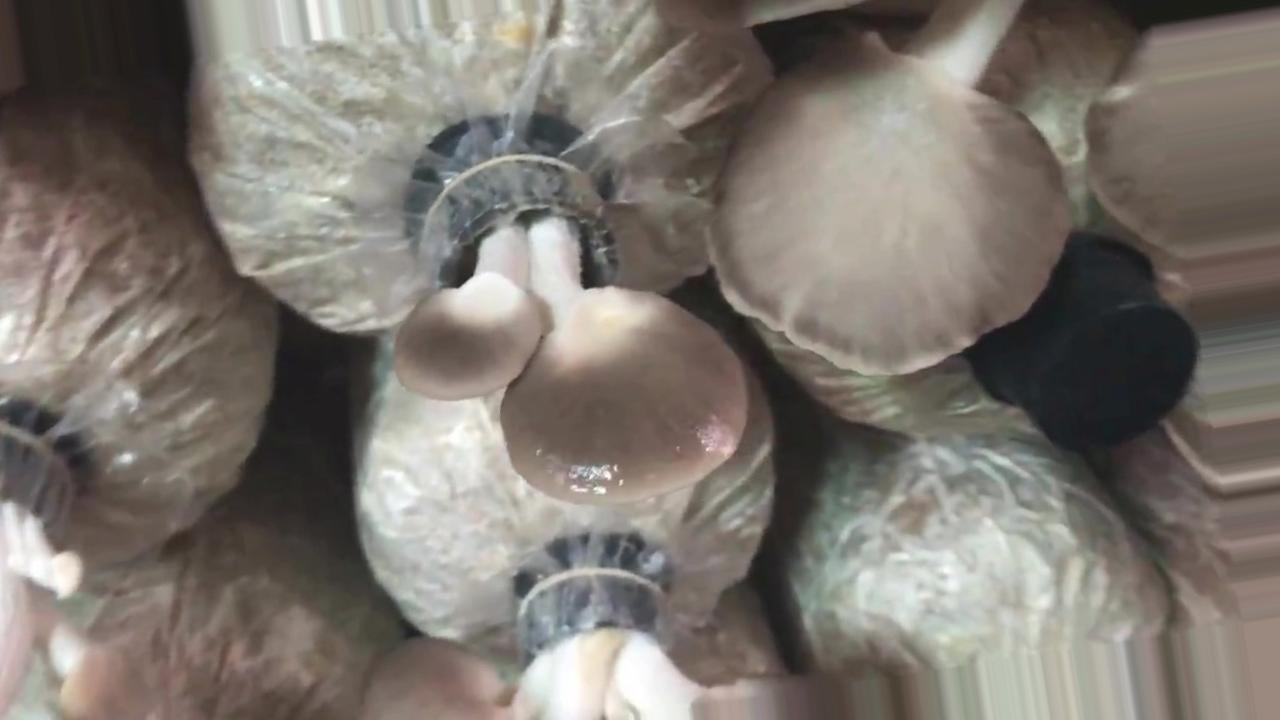nam: (698, 1, 1274, 388), (386, 157, 753, 507), (353, 562, 928, 714), (2, 405, 155, 720)
